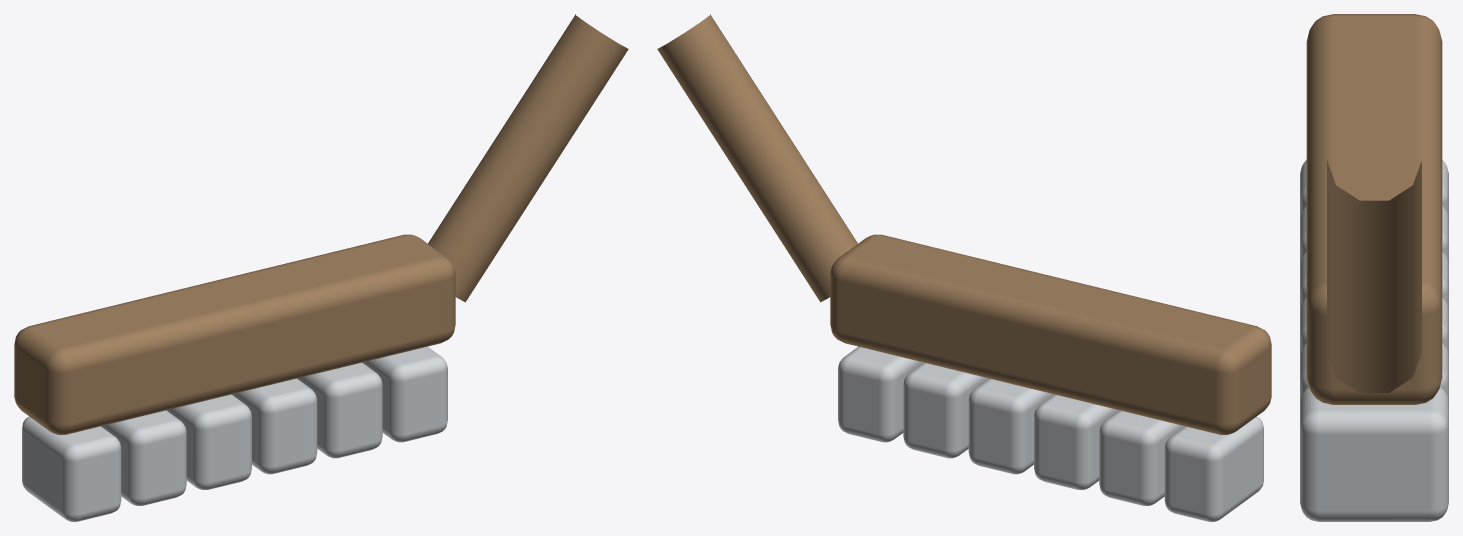
File: marquetry-and-veneer-inlay-workshop-notched-adhesive-s-c9438381__39118.glb
3 views of the same model, side by side, from view 1: azimuth 30°, elevation 25°; view 2: azimuth 150°, elevation 25°; view 3: azimuth 270°, elevation 25° (orthographic). The views are drawn at different scales.
Parts seen in each view (by area): view 1: notched-adhesive-spreader; view 2: notched-adhesive-spreader; view 3: notched-adhesive-spreader.
Part boxes in pixels (x1,y1,x2,y2): notched-adhesive-spreader: [14, 14, 628, 521]; notched-adhesive-spreader: [657, 14, 1271, 521]; notched-adhesive-spreader: [1300, 14, 1448, 521].
Size of the model in its own units: 0.1452 by 0.0842 by 0.022.
